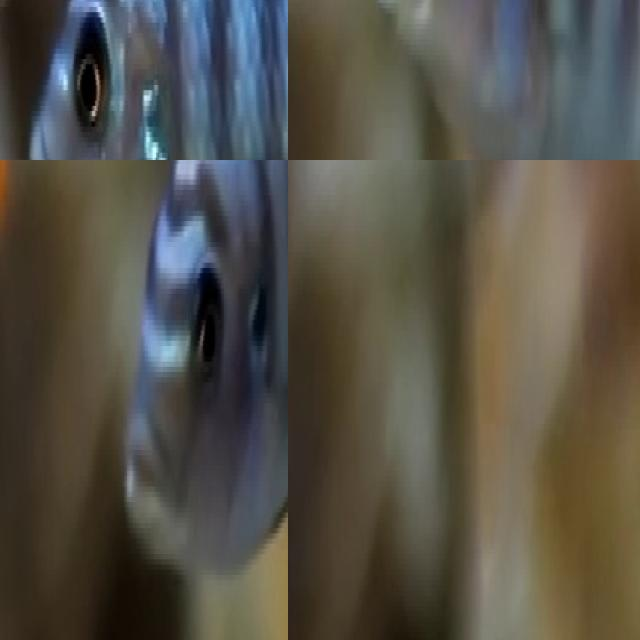fish: (128, 160, 288, 590), (0, 0, 288, 160)
